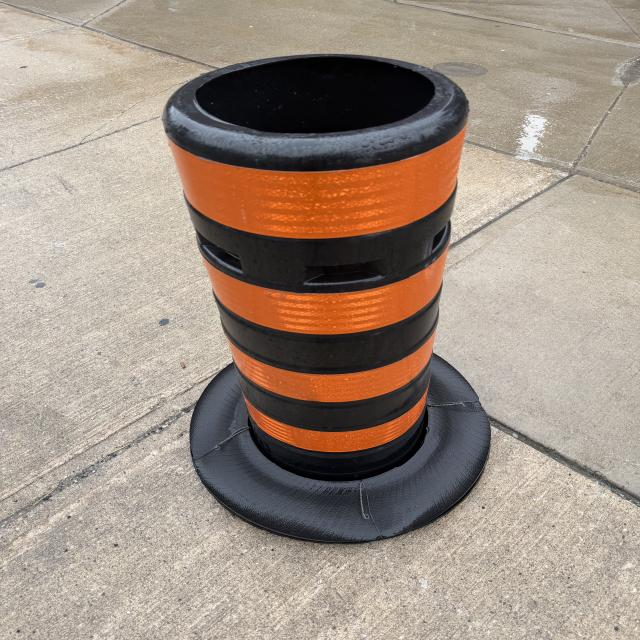Teraffic Barrel: (164, 55, 490, 542)
